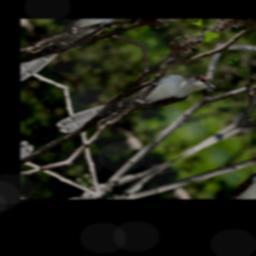Cuckoo: (52, 51, 223, 161)
